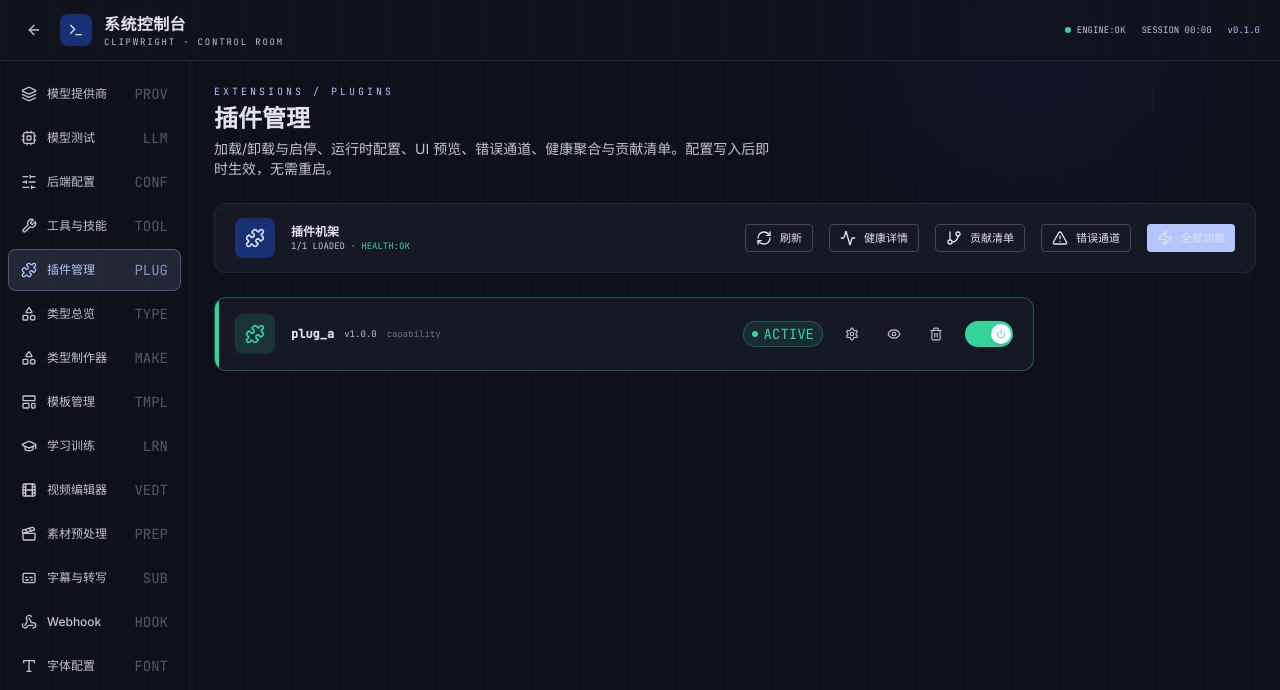
PluginsPage M8 启停持久化 › UI 预览按钮加载 ui.json 并渲染插件界面（M12）
The image size is (1280, 690).
Step 1. Click the button titled "UI 预览" → (894, 334), box [881,321,907,347]
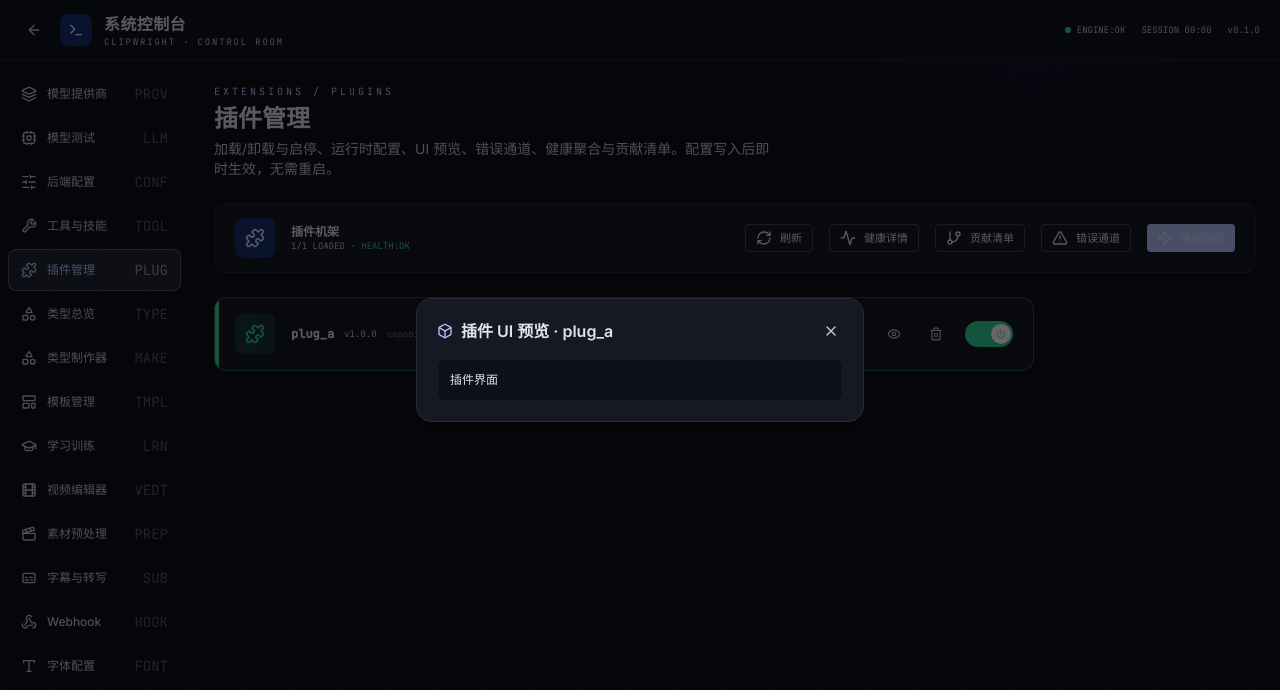
Check: the text "插件界面" is shown, box [450,372,498,387]
